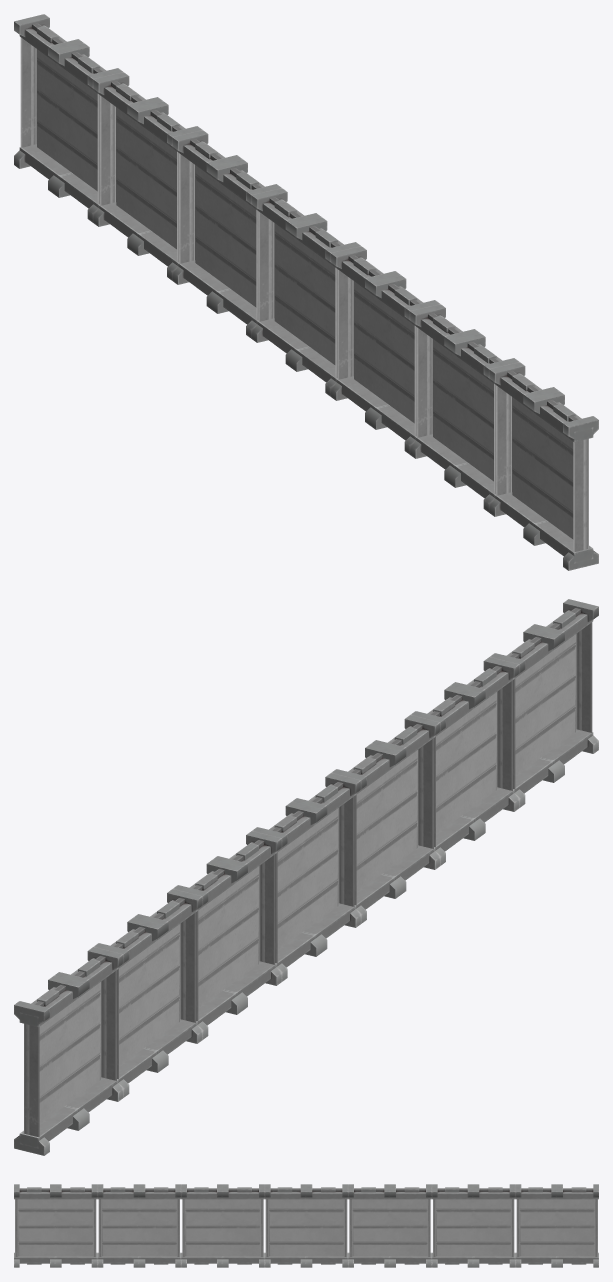
Rendered from Pfb_JALB_WallPart2_Line__37.fbx.
The picture shows the model from 3 angles, top to bottom: view 1: azimuth 30°, elevation 25°; view 2: azimuth 150°, elevation 25°; view 3: azimuth 270°, elevation 25°; orthographic projection. The views are drawn at different scales.
Parts seen in each view (by area): view 1: MAT_Roof; view 2: MAT_Roof; view 3: MAT_Roof.
Part boxes in pixels (x1,y1,x2,y2): MAT_Roof: [14, 14, 598, 570]; MAT_Roof: [14, 599, 598, 1155]; MAT_Roof: [14, 1184, 598, 1267].
Bounding box in the file's own units: 0.8873 × 4 × 28.
1 material, 1 textured.
